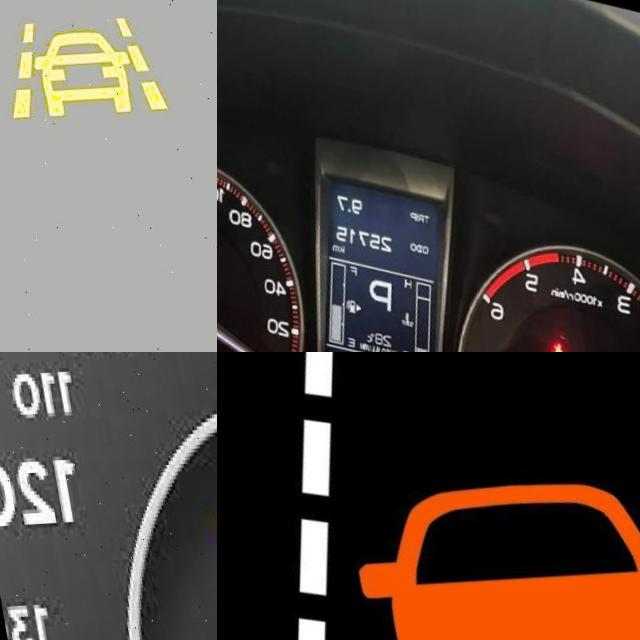Seat Belt: (534, 345, 553, 352)
